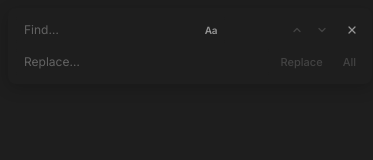
Test: SearchBar.svelte › displays result count correctly
The image size is (373, 160).
// syncResults is not fully reactive without events, trigger one
Type "x" into the field with placeholder "Find…" at coordinates (120, 30), box [16,16,225,44]
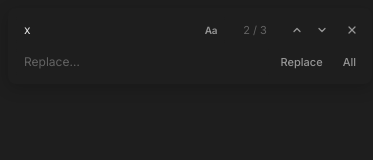
Result: the text "2 / 3" is shown at [243,23,267,37]
